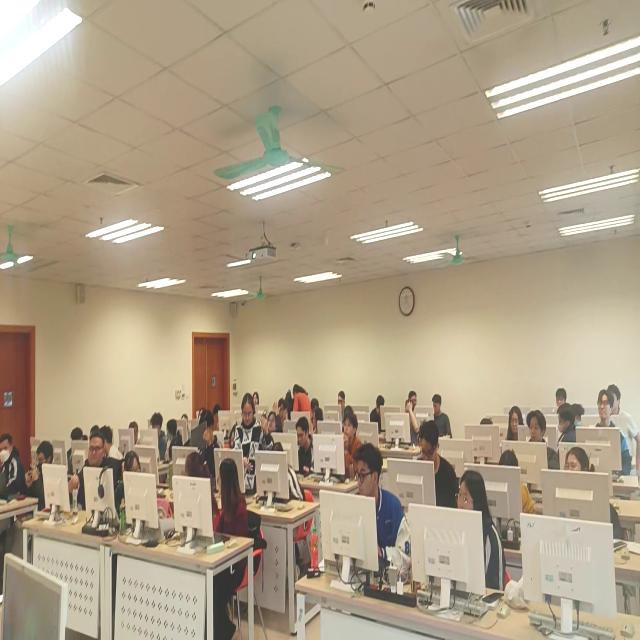raise_head: (329, 444, 409, 590), (442, 475, 503, 605), (65, 430, 116, 531), (553, 444, 596, 525), (584, 389, 623, 477), (328, 411, 365, 482), (26, 439, 57, 521), (519, 410, 553, 484), (1, 423, 23, 507), (499, 399, 526, 466), (256, 406, 286, 464), (547, 382, 574, 421)
stand: (230, 393, 264, 502)
using_computer: (394, 430, 450, 516), (273, 420, 315, 483), (415, 390, 452, 443), (139, 406, 170, 468), (385, 397, 419, 450)
